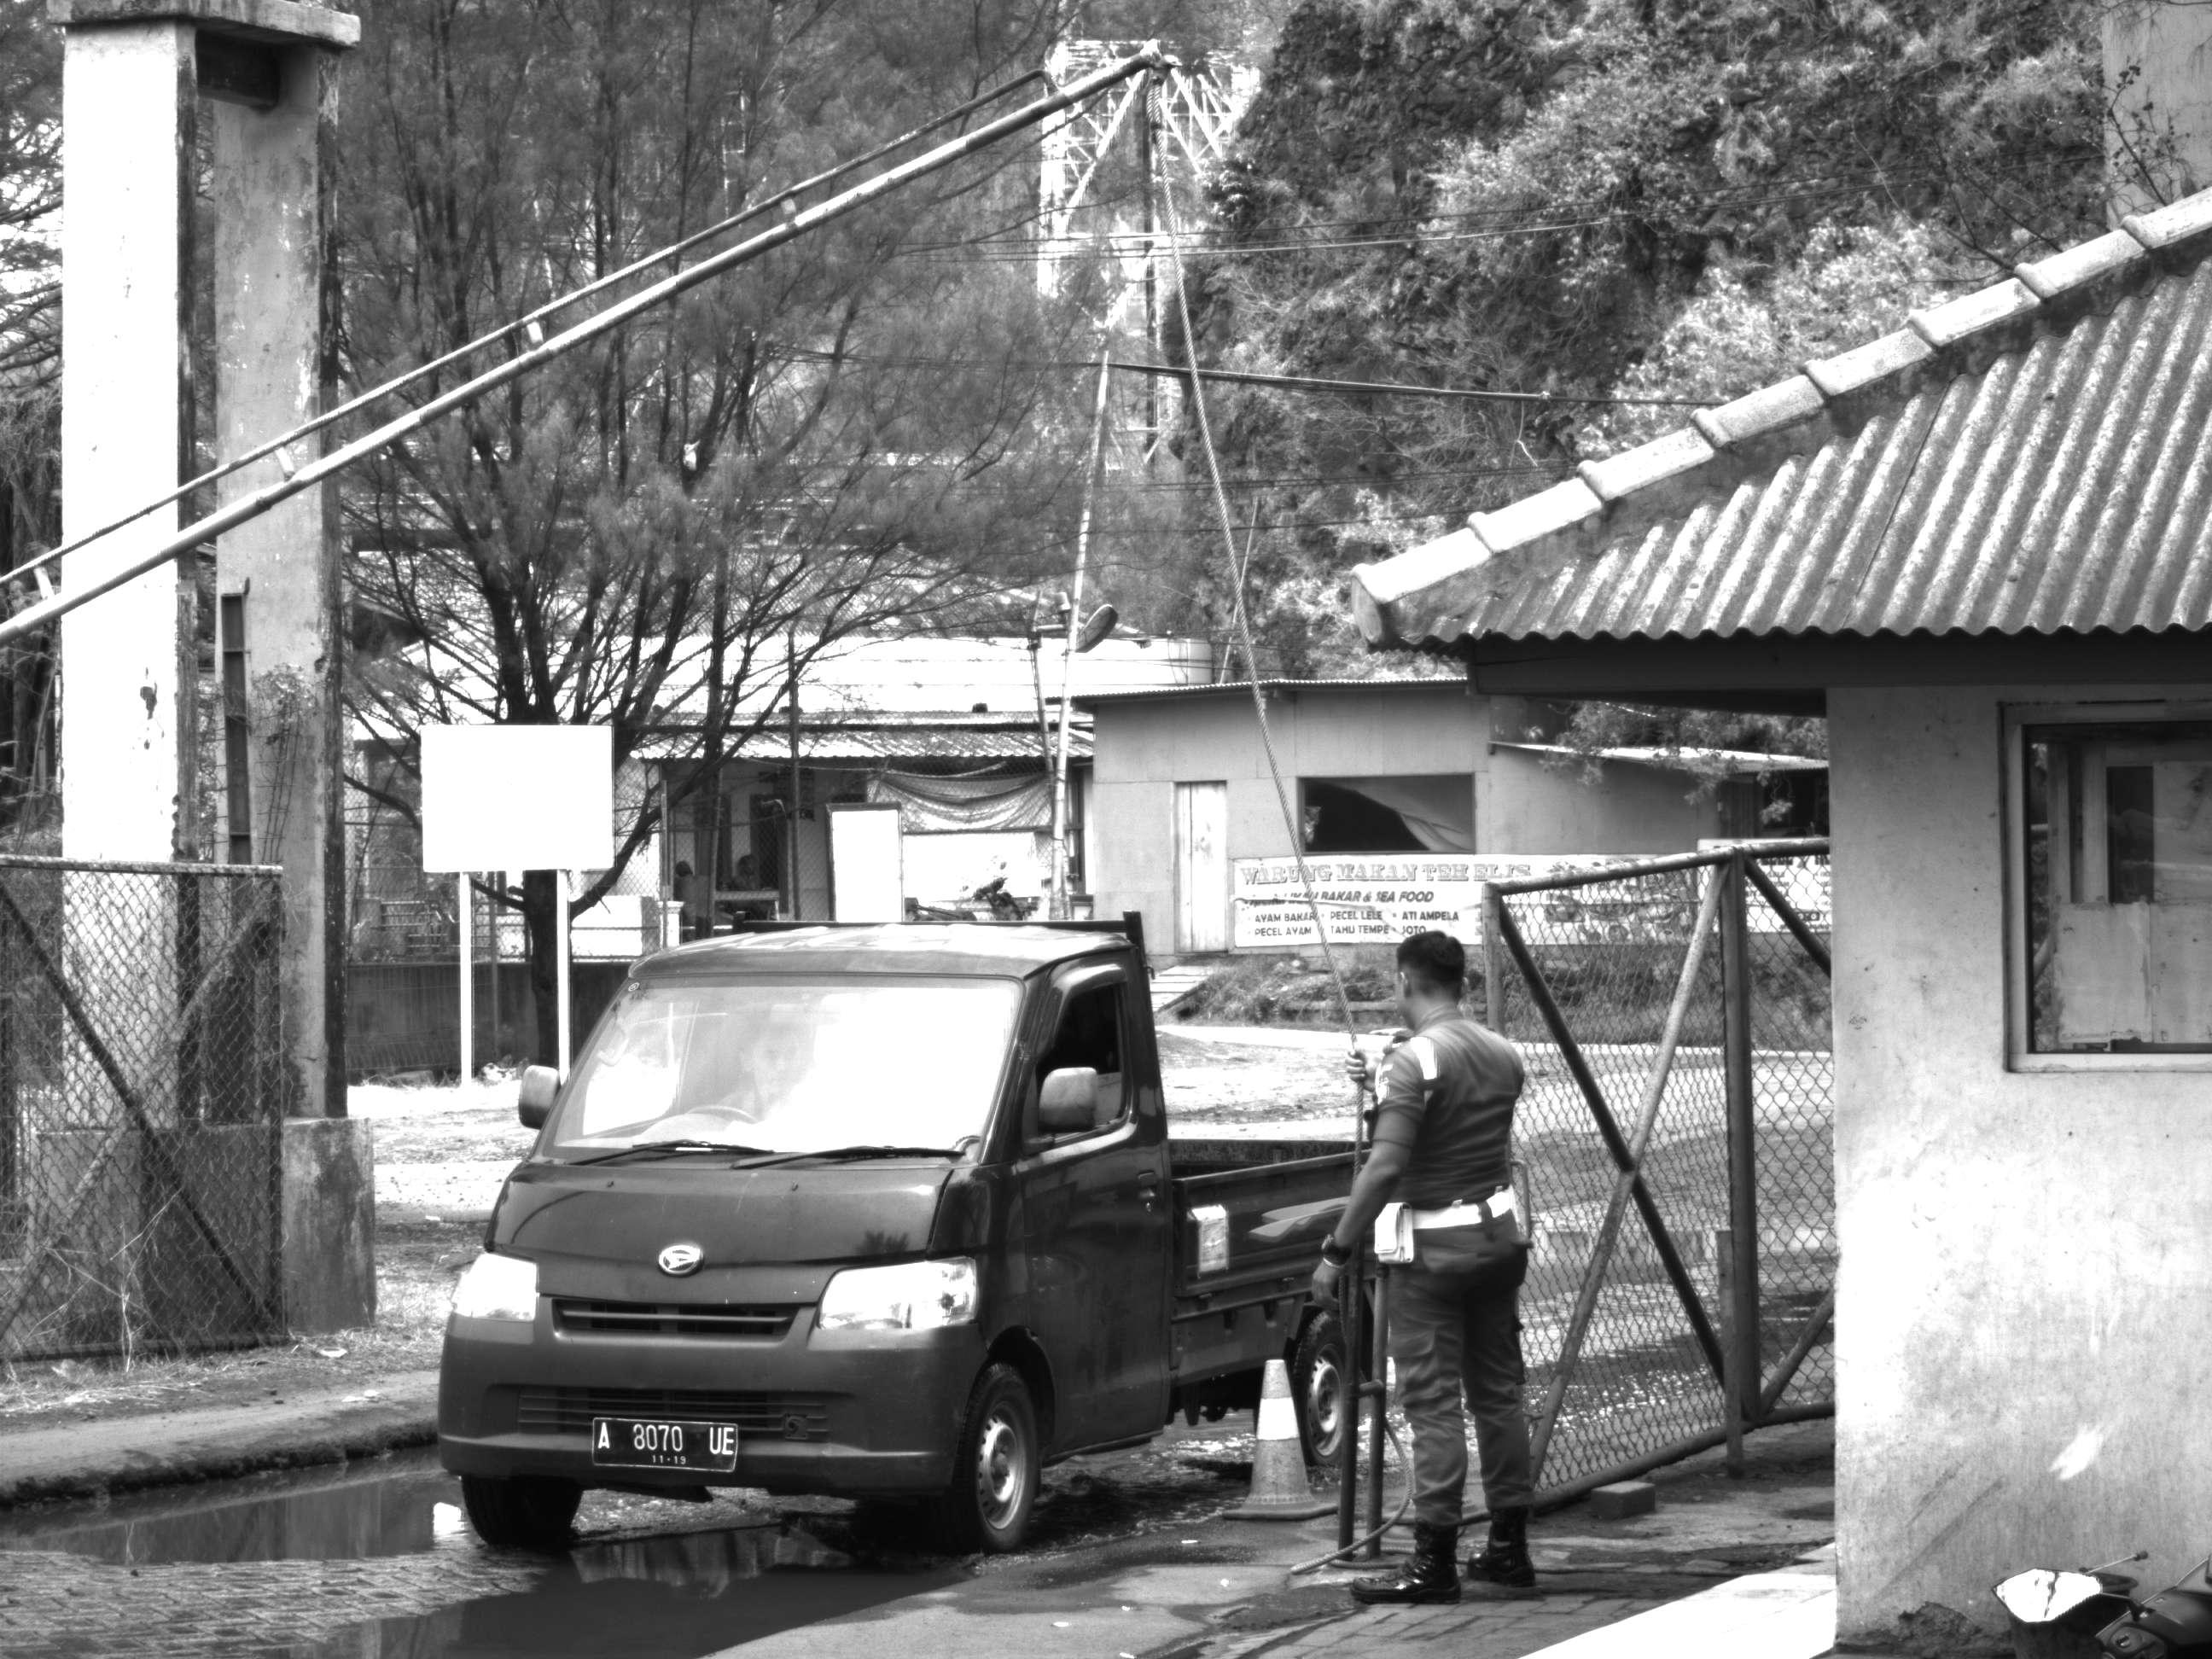day_small_truck_front: (434, 888, 1382, 1572)
plate: (591, 1415, 742, 1474)
